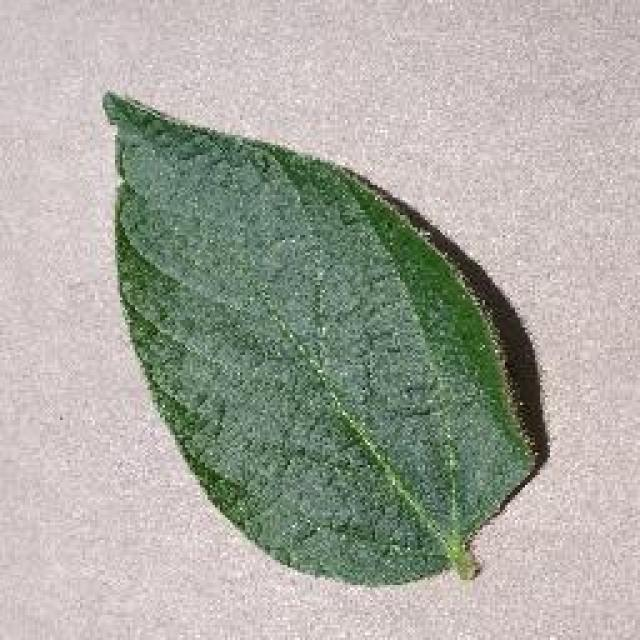Soy_healthy: (137, 150, 488, 529)
